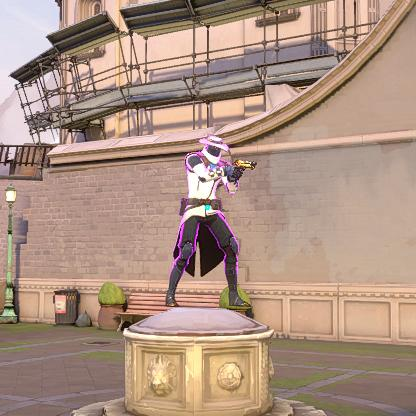enemyBody: (194, 162, 215, 201)
enemyHead: (208, 142, 221, 155)
